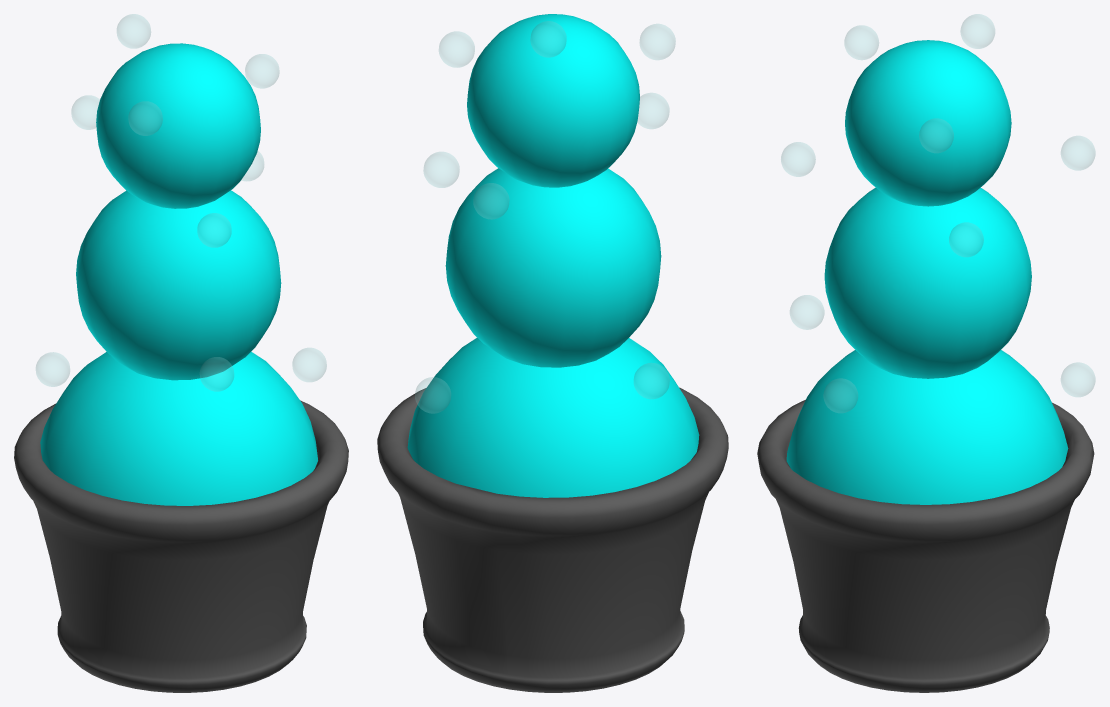
Rendered from Plant.fbx.
3 views of the same model, side by side, from view 1: azimuth 30°, elevation 25°; view 2: azimuth 150°, elevation 25°; view 3: azimuth 270°, elevation 25° (orthographic). The views are drawn at different scales.
Visible parts, largest first — view 1: polySurface1; view 2: polySurface1; view 3: polySurface1.
Part boxes in pixels (left/top/right/bottom): polySurface1: left=14, top=14, right=348, bottom=692; polySurface1: left=377, top=14, right=728, bottom=692; polySurface1: left=757, top=14, right=1095, bottom=692.
Size of the model in its own units: 54.22 by 110 by 54.44.
